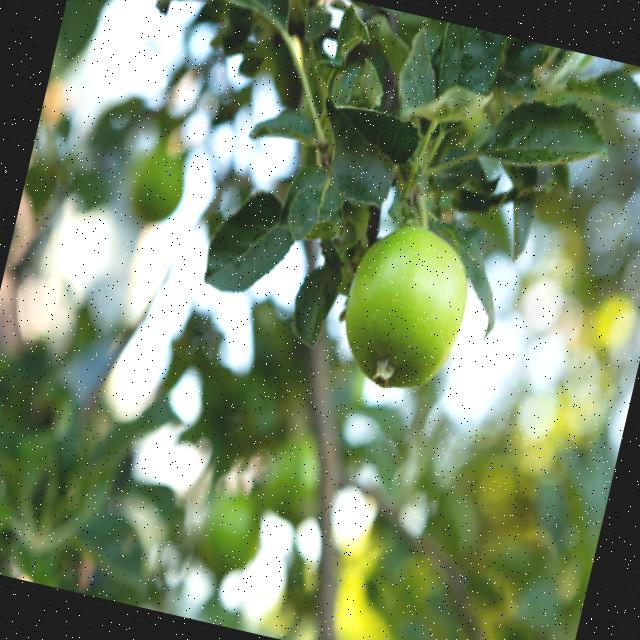Unripe: (327, 210, 480, 402)
